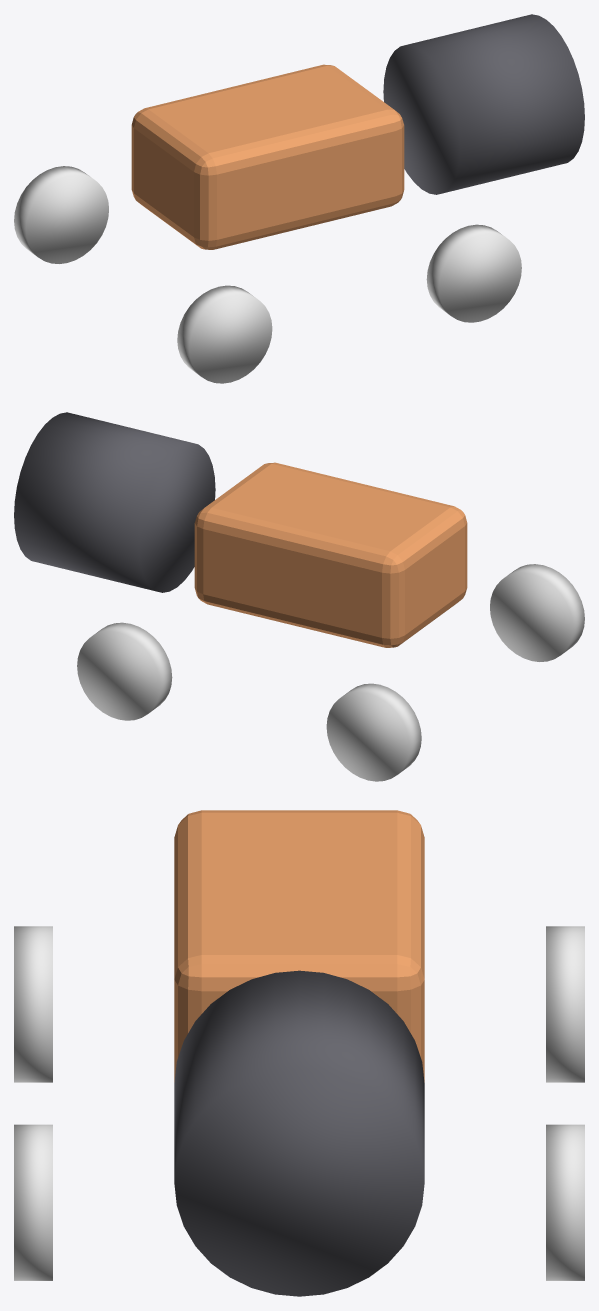
File: collision-cart.glb
3 renders of one model, top to bottom at view 1: azimuth 30°, elevation 25°; view 2: azimuth 150°, elevation 25°; view 3: azimuth 270°, elevation 25°, orthographic. The views are drawn at different scales.
Visible parts, largest first — view 1: CartBody, Bumper, Wheel0.3-0.34, Wheel-0.3-0.34, Wheel-0.30.34; view 2: CartBody, Bumper, Wheel0.30.34, Wheel-0.30.34, Wheel-0.3-0.34; view 3: Bumper, CartBody, Wheel0.3-0.34, Wheel0.30.34, Wheel-0.3-0.34, Wheel-0.30.34.
Boxes of the visible parts, box(x1,y1,x2,y2) form: CartBody: box(131, 64, 404, 249); Bumper: box(383, 14, 584, 194); Wheel0.3-0.34: box(426, 224, 521, 322); Wheel-0.3-0.34: box(177, 285, 272, 383); Wheel-0.30.34: box(14, 166, 108, 263); CartBody: box(194, 462, 467, 647); Bumper: box(14, 412, 215, 592); Wheel0.30.34: box(77, 622, 172, 720); Wheel-0.30.34: box(326, 683, 421, 781); Wheel-0.3-0.34: box(490, 564, 584, 661); Bumper: box(174, 970, 424, 1296); CartBody: box(174, 810, 424, 1082); Wheel0.3-0.34: box(14, 1124, 52, 1280); Wheel0.30.34: box(546, 1124, 584, 1280); Wheel-0.3-0.34: box(14, 926, 52, 1082); Wheel-0.30.34: box(546, 926, 584, 1082).
Size of the model in its own units: 1.07 by 0.46 by 0.73.
